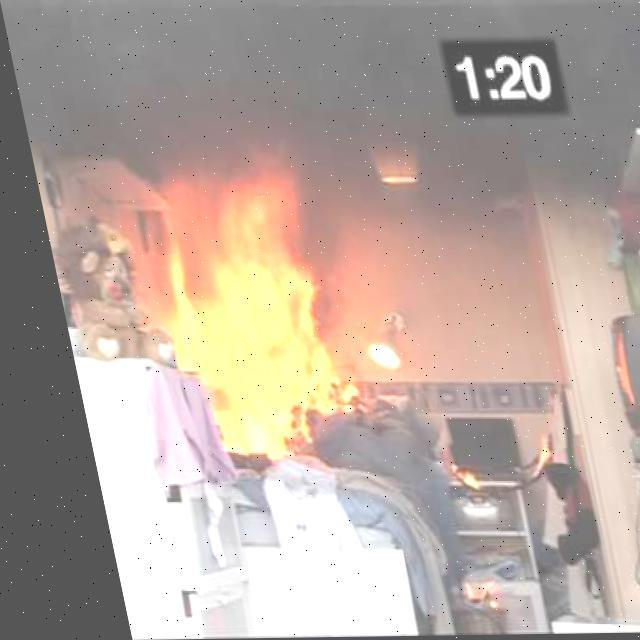Fire: (129, 152, 354, 464)
